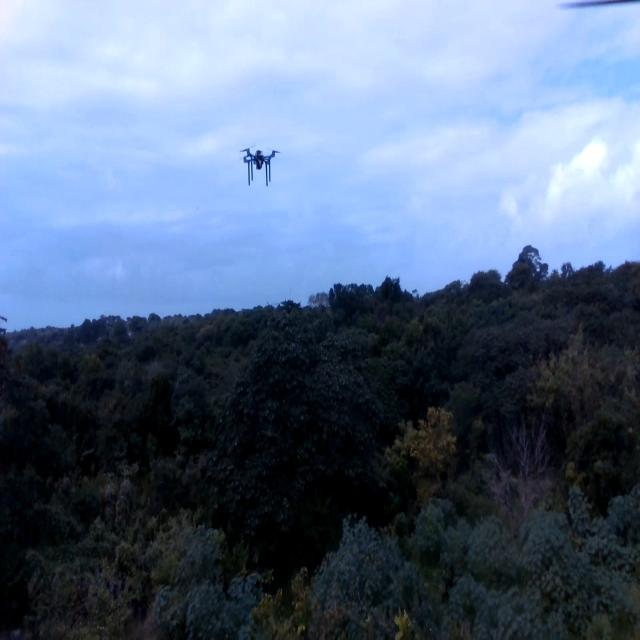-uav-: (240, 136, 282, 187)
